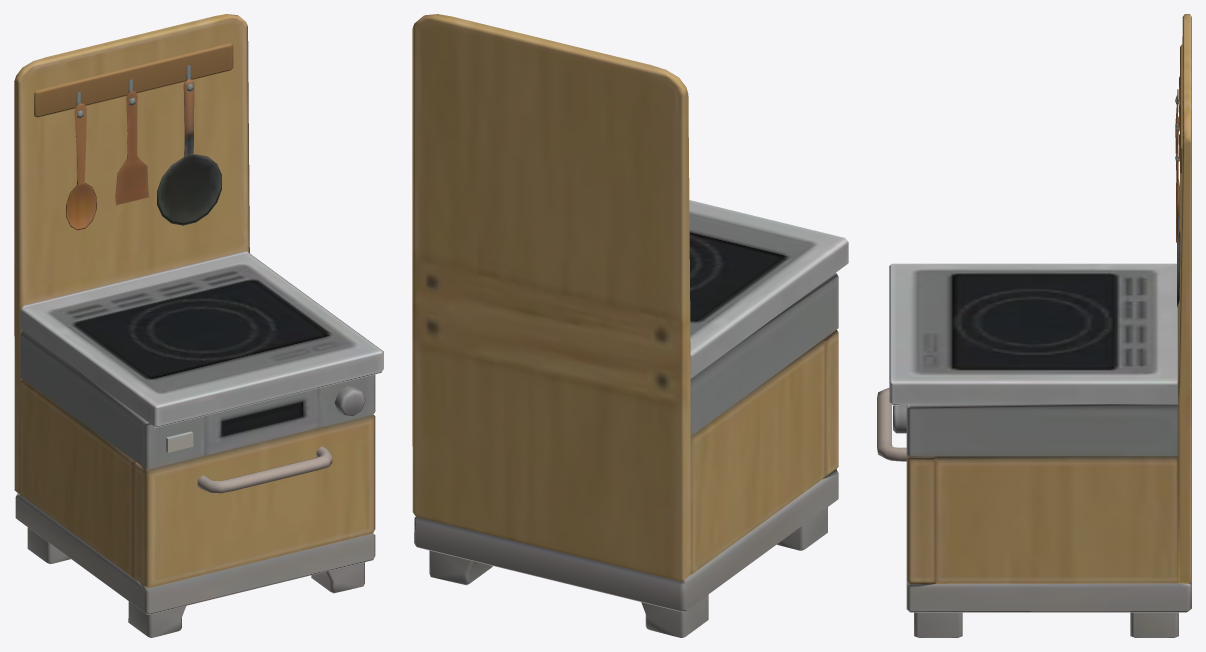
3 renders of one model, left to right at view 1: azimuth 30°, elevation 25°; view 2: azimuth 150°, elevation 25°; view 3: azimuth 270°, elevation 25°, orthographic. The views are drawn at different scales.
Bounding box in the file's own units: 8.24 × 16.44 × 9.06.
1 material, 1 textured.
